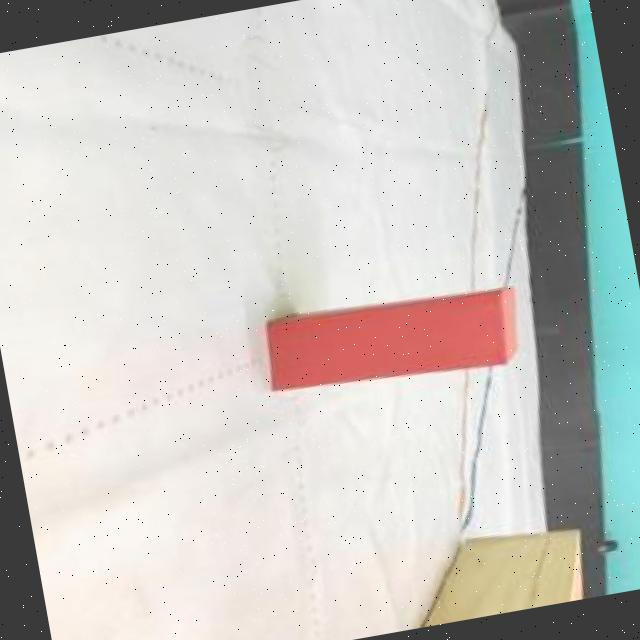redbox: (258, 276, 528, 402)
